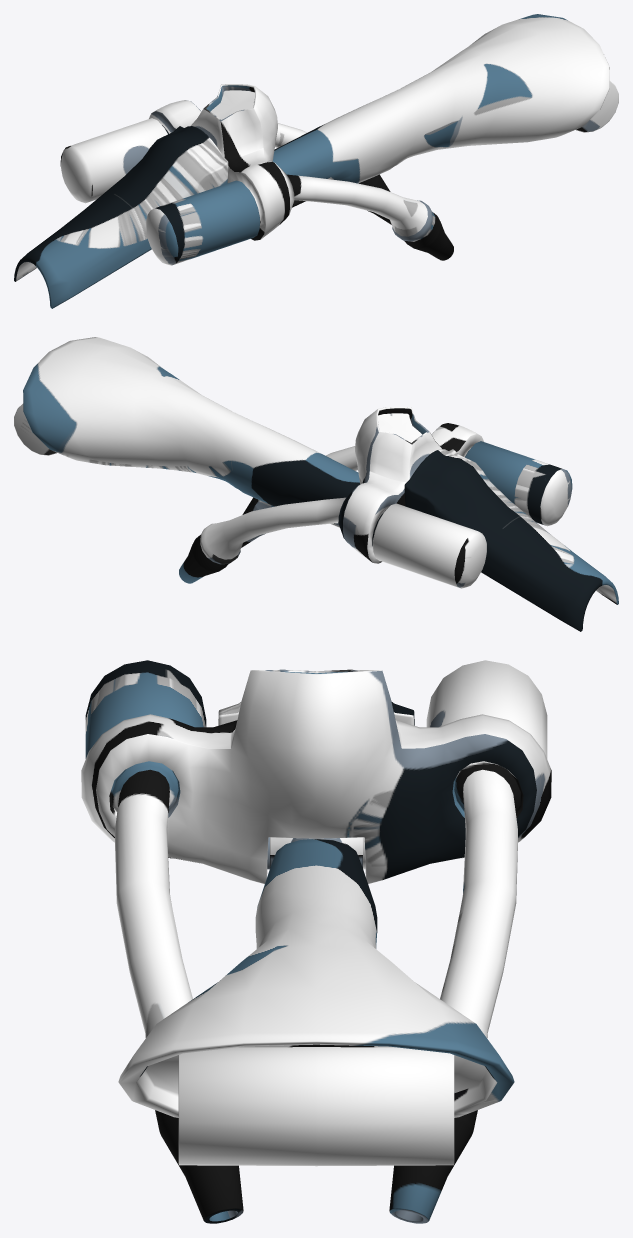
Rendered from PC_RepairTool_low.fbx.
3 renders of one model, top to bottom at view 1: azimuth 30°, elevation 25°; view 2: azimuth 150°, elevation 25°; view 3: azimuth 270°, elevation 25°, orthographic. The views are drawn at different scales.
Visible parts, largest first — view 1: RepairTool_Pivot_Casing_Left_low, RepairTool_Left_low, RepairTool_Wire_Protector_Left_low, RepairTool_Canister_Left_low, RepairTool_Pivot_Left_low; view 2: RepairTool_Pivot_Casing_Left_low, RepairTool_Left_low, RepairTool_Wire_Protector_Left_low, RepairTool_Canister_Left_low, RepairTool_Pivot_Left_low; view 3: RepairTool_Left_low, RepairTool_Pivot_Casing_Left_low, RepairTool_Pivot_Left_low, RepairTool_Canister_Left_low.
Boxes of the visible parts, x1,y1,x2,y2 form: RepairTool_Pivot_Casing_Left_low: (272, 14, 609, 183); RepairTool_Left_low: (149, 84, 453, 260); RepairTool_Wire_Protector_Left_low: (14, 126, 228, 308); RepairTool_Canister_Left_low: (60, 118, 260, 265); RepairTool_Pivot_Left_low: (576, 80, 618, 132); RepairTool_Pivot_Casing_Left_low: (23, 337, 360, 506); RepairTool_Left_low: (179, 407, 483, 583); RepairTool_Wire_Protector_Left_low: (404, 449, 618, 631); RepairTool_Canister_Left_low: (372, 441, 572, 588); RepairTool_Pivot_Left_low: (14, 403, 56, 455); RepairTool_Left_low: (81, 669, 551, 1223); RepairTool_Pivot_Casing_Left_low: (118, 838, 514, 1117); RepairTool_Pivot_Left_low: (178, 837, 454, 1166); RepairTool_Canister_Left_low: (85, 660, 547, 758).
Size of the model in its own units: 13.52 by 36.66 by 12.41.
